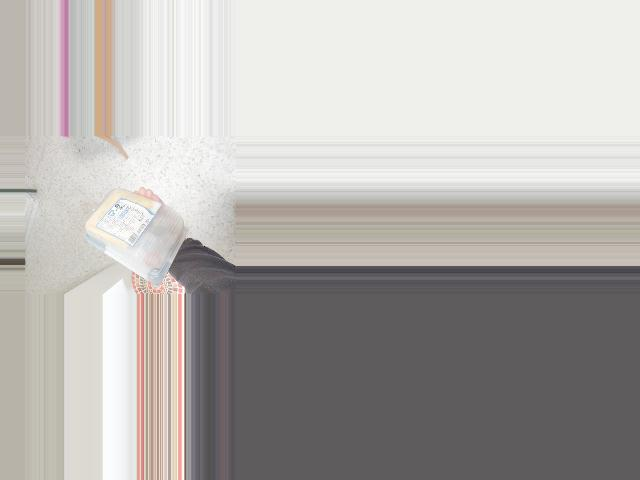cheese: (78, 187, 186, 278)
